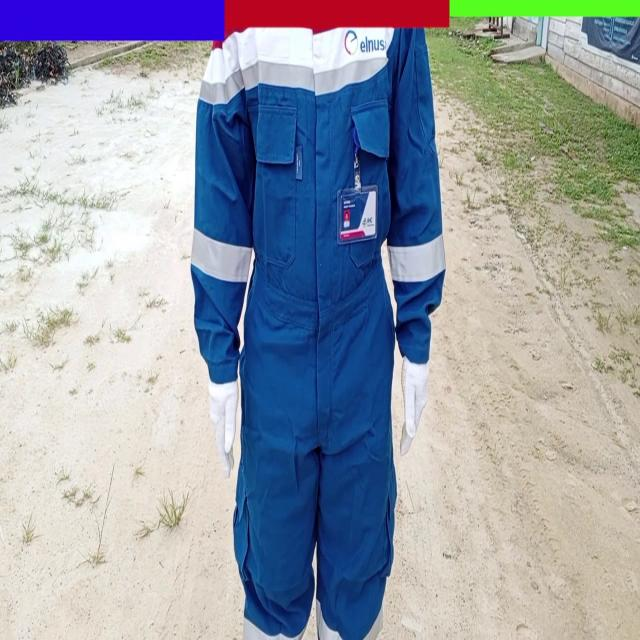Gloves: (205, 378, 238, 472), (398, 360, 429, 456)
Overall Suit: (192, 39, 447, 640)
